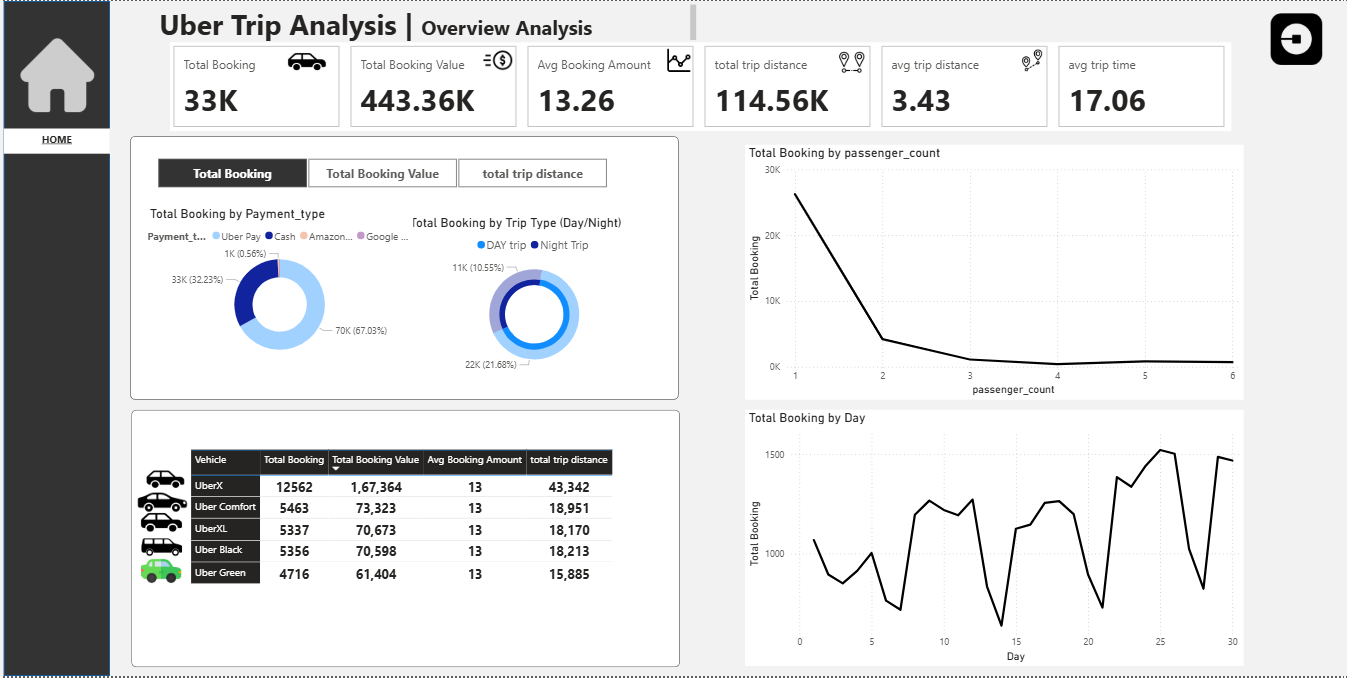

This screenshot's page, from the dashboard's own definition file:
{"tool":"powerbi","page":{"name":"Page 1","canvas":[1801,900],"ordinal":0},"visuals":[{"type":"shape","box":[5,0,141.7,900],"z":0},{"type":"textbox","box":[206.7,0,726.7,58.3],"z":1000},{"type":"cardVisual","fields":{"Data":["Trip Details.Total Booking","Trip Details.Total Booking Value","Trip Details.Avg Booking Amount","Trip Details.total trip distance","Trip Details.avg trip distance","Trip Details.avg trip time"]},"box":[226.7,55,1415,118.3],"z":2000},{"type":"image","box":[615,55,98.3,48.3],"z":3000},{"type":"image","box":[1091.7,60,88.3,43.3],"z":4000},{"type":"image","box":[1326.7,60,100,38.3],"z":5000},{"type":"image","box":[850,56.7,110,45],"z":6000},{"type":"shape","box":[173.3,180,731.7,351.7],"z":7000},{"type":"image","box":[340,50,138.3,61.7],"z":8000},{"type":"slicer","fields":{"Values":["Dynamic Measure.Dynamic Measure"]},"box":[185,203.3,648.1,52],"z":9000},{"type":"donutChart","fields":{"Y":["Trip Details.Total Booking"],"Category":["Trip Details.Trip Type(Day/Night)"]},"box":[541.7,285,341.7,215],"z":10000},{"type":"donutChart","fields":{"Y":["Trip Details.Total Booking"],"Category":["Trip Details.Payment_type"]},"box":[195.7,273.6,356.1,214],"z":11000},{"type":"shape","box":[175,545,731.7,343.3],"z":12000},{"type":"pivotTable","fields":{"Values":["Trip Details.Total Booking","Trip Details.Total Booking Value","Trip Details.Avg Booking Amount","Trip Details.total trip distance"],"Rows":["Trip Details.Vehicle"]},"box":[250,593.3,583.3,246.7],"z":13000},{"type":"image","box":[153.3,661.7,123.3,66.7],"z":14000},{"type":"image","box":[1655,11.7,146.7,78.3],"z":15000},{"type":"lineChart","fields":{"Y":["Trip Details.Total Booking"],"Category":["Trip Details.passenger_count"]},"box":[993.3,191.7,665,340],"z":16000},{"type":"lineChart","fields":{"Y":["Trip Details.Total Booking"],"Category":["Calendar Table.Date.Variation.Date Hierarchy.Day"]},"box":[993.3,545,665,341.7],"z":17000},{"type":"image","box":[180,728.3,70,63.3],"z":18000},{"type":"image","box":[173.3,693.3,83.3,70],"z":19000},{"type":"image","box":[21.7,45,110,108.3],"z":20000},{"type":"textbox","box":[5,170,141.7,33.3],"z":21000},{"type":"image","box":[175,625,83.3,86.7],"z":21001},{"type":"image","box":[185,606.7,71.7,61.7],"z":21002}]}

Visuals, with their boxes on the page's 1801x900 design canvas (x1, y1, x2, y2). These are canvas units, not pixel positions in the 1347x678 screenshot, which may show the page scaled, cropped or inside an application window:
shape: {"x1": 5, "y1": 0, "x2": 147, "y2": 900}
textbox: {"x1": 207, "y1": 0, "x2": 933, "y2": 58}
cardVisual - Trip Details.Total Booking x Trip Details.Total Booking Value: {"x1": 227, "y1": 55, "x2": 1642, "y2": 173}
image: {"x1": 615, "y1": 55, "x2": 713, "y2": 103}
image: {"x1": 1092, "y1": 60, "x2": 1180, "y2": 103}
image: {"x1": 1327, "y1": 60, "x2": 1427, "y2": 98}
image: {"x1": 850, "y1": 57, "x2": 960, "y2": 102}
shape: {"x1": 173, "y1": 180, "x2": 905, "y2": 532}
image: {"x1": 340, "y1": 50, "x2": 478, "y2": 112}
slicer - Dynamic Measure.Dynamic Measure: {"x1": 185, "y1": 203, "x2": 833, "y2": 255}
donutChart - Trip Details.Total Booking x Trip Details.Trip Type(Day/Night): {"x1": 542, "y1": 285, "x2": 883, "y2": 500}
donutChart - Trip Details.Total Booking x Trip Details.Payment_type: {"x1": 196, "y1": 274, "x2": 552, "y2": 488}
shape: {"x1": 175, "y1": 545, "x2": 907, "y2": 888}
pivotTable - Trip Details.Total Booking x Trip Details.Total Booking Value: {"x1": 250, "y1": 593, "x2": 833, "y2": 840}
image: {"x1": 153, "y1": 662, "x2": 277, "y2": 728}
image: {"x1": 1655, "y1": 12, "x2": 1802, "y2": 90}
lineChart - Trip Details.Total Booking x Trip Details.passenger_count: {"x1": 993, "y1": 192, "x2": 1658, "y2": 532}
lineChart - Trip Details.Total Booking x Calendar Table.Date.Variation.Date Hierarchy.Day: {"x1": 993, "y1": 545, "x2": 1658, "y2": 887}
image: {"x1": 180, "y1": 728, "x2": 250, "y2": 792}
image: {"x1": 173, "y1": 693, "x2": 257, "y2": 763}
image: {"x1": 22, "y1": 45, "x2": 132, "y2": 153}
textbox: {"x1": 5, "y1": 170, "x2": 147, "y2": 203}
image: {"x1": 175, "y1": 625, "x2": 258, "y2": 712}
image: {"x1": 185, "y1": 607, "x2": 257, "y2": 668}
